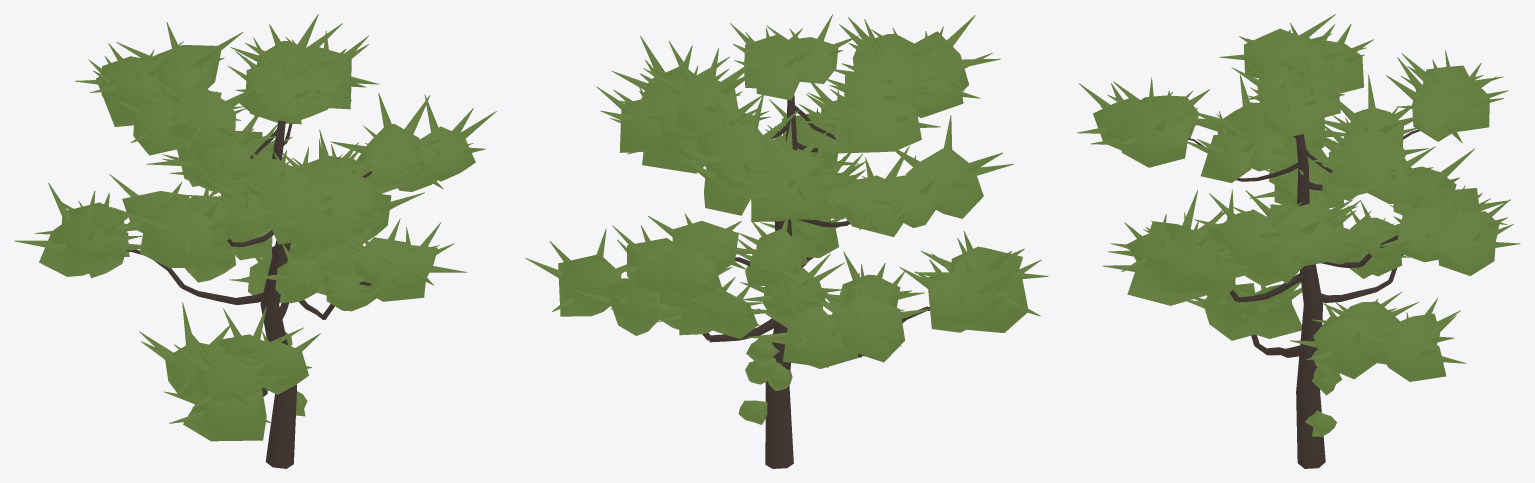
The model's file is Blender_PitchPine_2.glb.
The picture shows the model from 3 angles, left to right: view 1: azimuth 30°, elevation 25°; view 2: azimuth 150°, elevation 25°; view 3: azimuth 270°, elevation 25°; orthographic projection. The views are drawn at different scales.
Visible parts, largest first — view 1: Blender_PitchPine_2; view 2: Blender_PitchPine_2; view 3: Blender_PitchPine_2.
Boxes of the visible parts, bbox=[...] form: Blender_PitchPine_2: bbox=[14, 14, 496, 468]; Blender_PitchPine_2: bbox=[525, 14, 1048, 468]; Blender_PitchPine_2: bbox=[1077, 14, 1520, 468].
Size of the model in its own units: 11.33 by 12.04 by 12.02.
